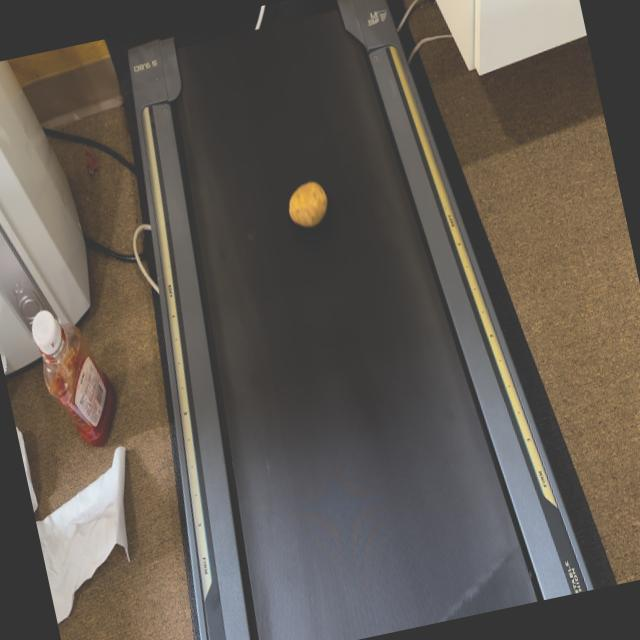Trash: (282, 175, 336, 234)
